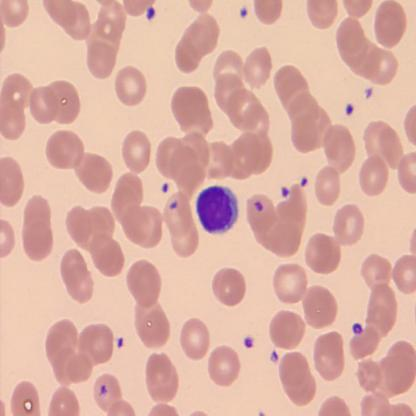Lymphocyte: (196, 185, 238, 233)
